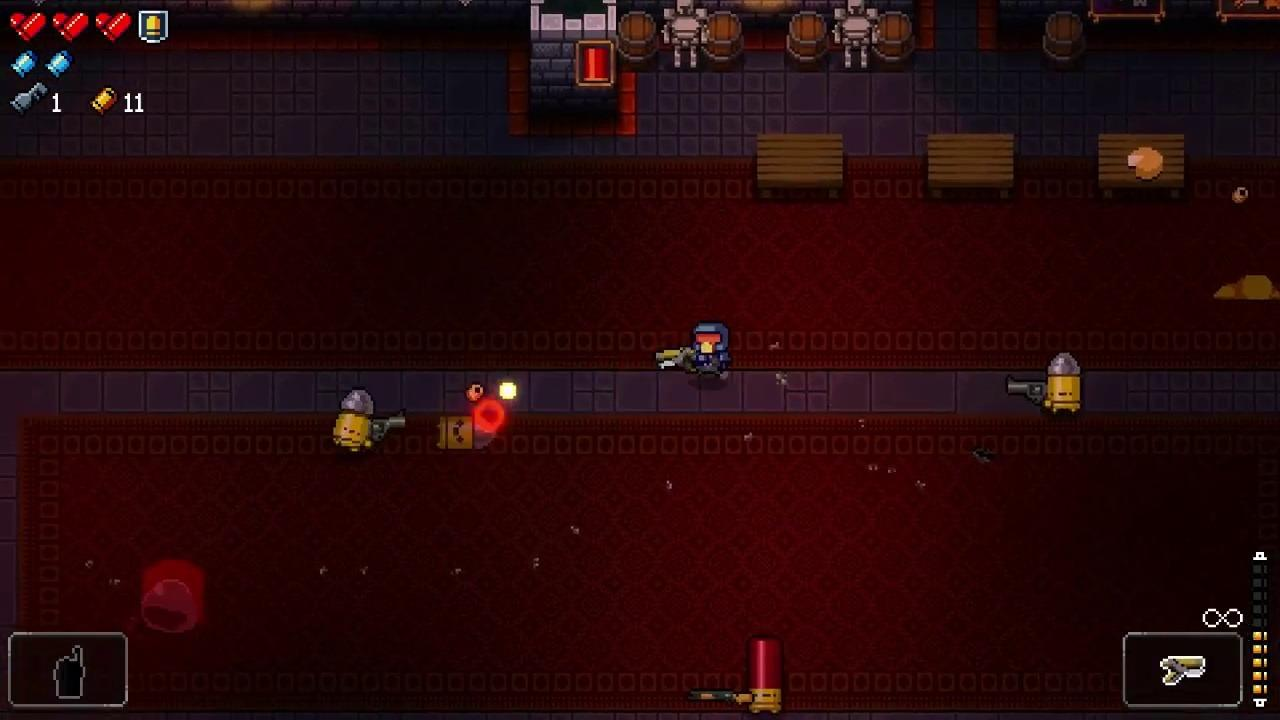blobulon_l: (141, 578, 196, 633)
bullet_kin: (333, 389, 375, 455), (1048, 353, 1081, 415)
dead_apprentice_gunjurer: (1214, 276, 1280, 300)
dead_bullet_kin: (438, 416, 498, 450)
player: (691, 321, 731, 377)
red_shotgun_kin: (746, 636, 783, 715)
table: (758, 134, 842, 200), (929, 134, 1013, 198), (1099, 134, 1183, 197)
